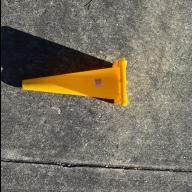cone: (20, 58, 128, 106)
